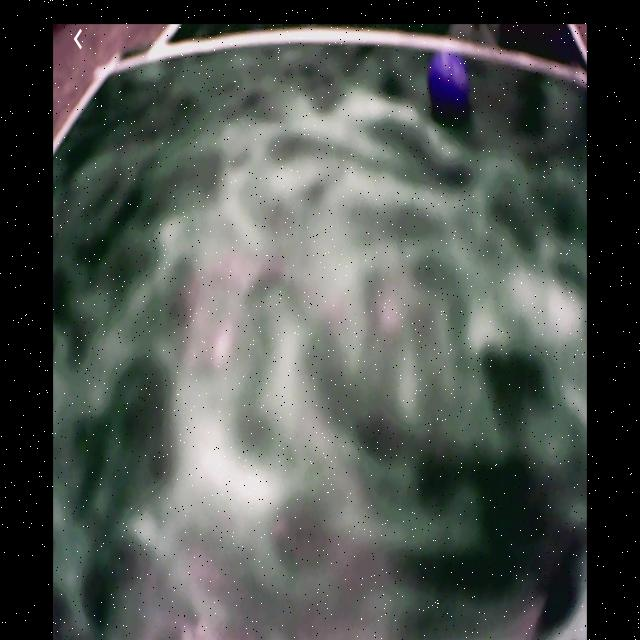ball: (429, 52, 472, 111)
